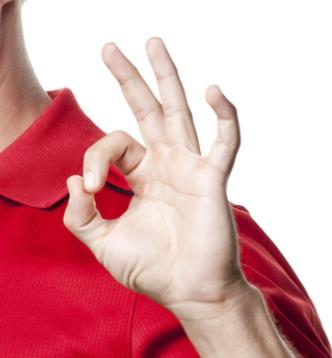left: (60, 36, 247, 299)
